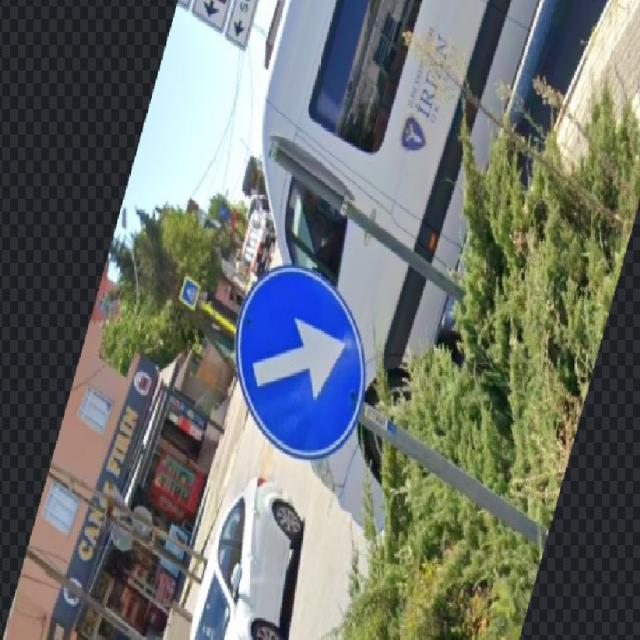Turn Right: (234, 270, 367, 456)
